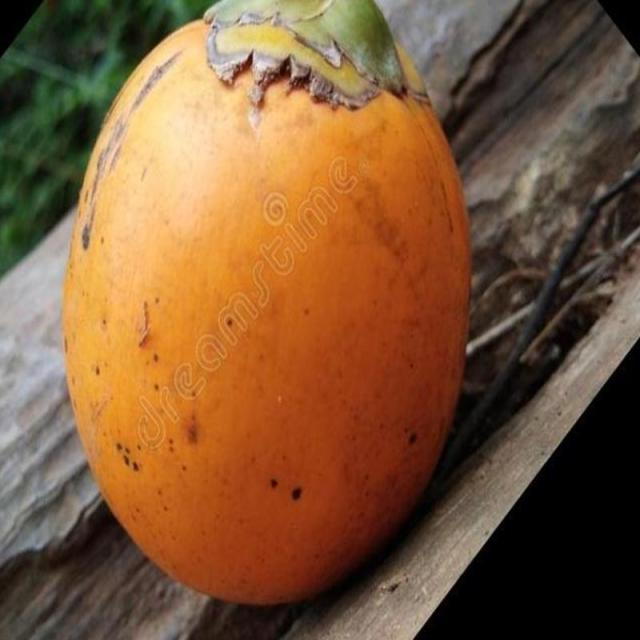good: (60, 0, 473, 610)
